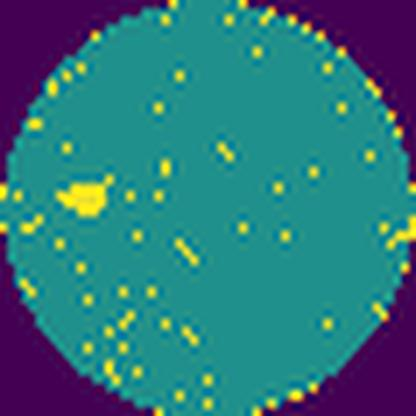Loc: (57, 173, 113, 221)
